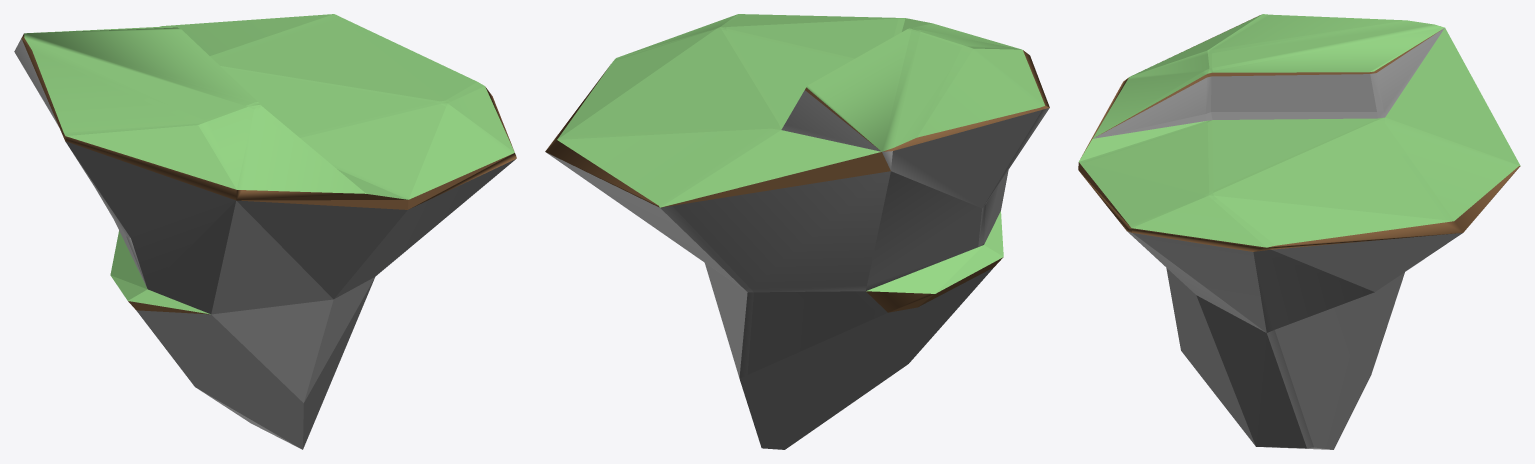
Rendered from Island3.fbx.
The picture shows the model from 3 angles, left to right: view 1: azimuth 30°, elevation 25°; view 2: azimuth 150°, elevation 25°; view 3: azimuth 270°, elevation 25°; orthographic projection. The views are drawn at different scales.
Visible parts, largest first — view 1: Cube; view 2: Cube; view 3: Cube.
Boxes of the visible parts, box(x1,y1,x2,y2) form: Cube: box(14, 14, 516, 449); Cube: box(545, 14, 1049, 449); Cube: box(1078, 14, 1520, 449).
Size of the model in its own units: 1565 by 1370 by 1572.
